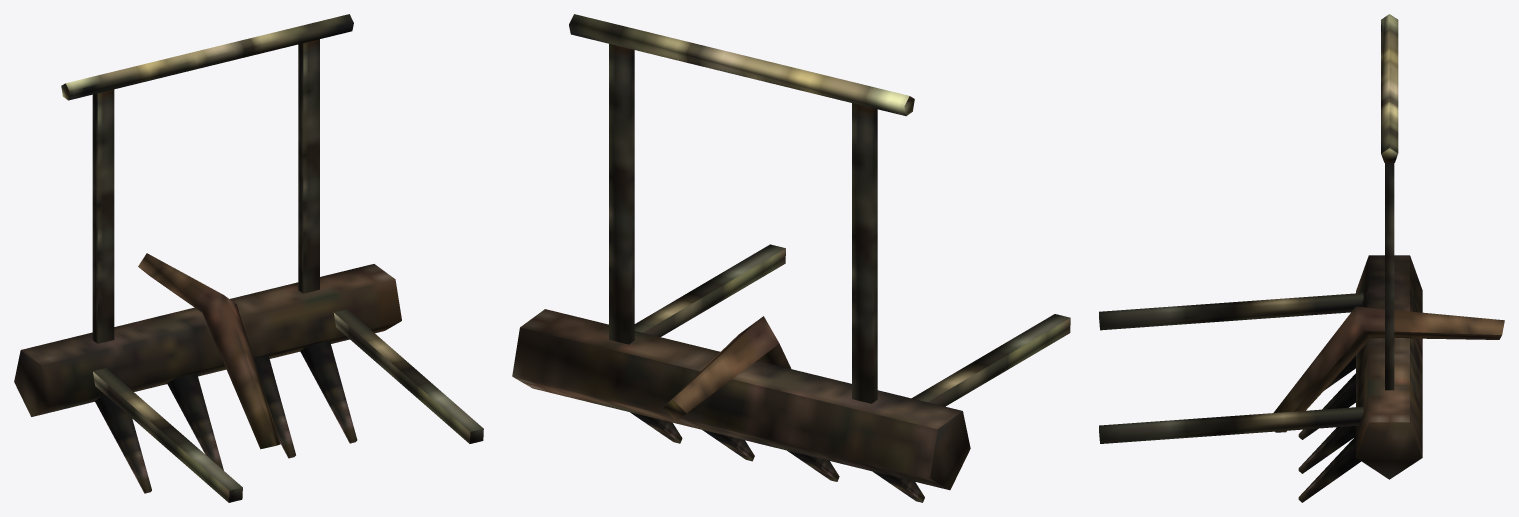
The model's file is b_general_obj_10_11_01.fbx.
3 renders of one model, left to right at view 1: azimuth 30°, elevation 25°; view 2: azimuth 150°, elevation 25°; view 3: azimuth 270°, elevation 25°, orthographic. The views are drawn at different scales.
Visible parts, largest first — view 1: B_general_obj_06; view 2: B_general_obj_06; view 3: B_general_obj_06.
Boxes of the visible parts, x1,y1,x2,y2 form: B_general_obj_06: [14, 14, 483, 502]; B_general_obj_06: [512, 14, 1070, 502]; B_general_obj_06: [1099, 14, 1504, 502].
Size of the model in its own units: 1.39 by 1.45 by 1.43.
